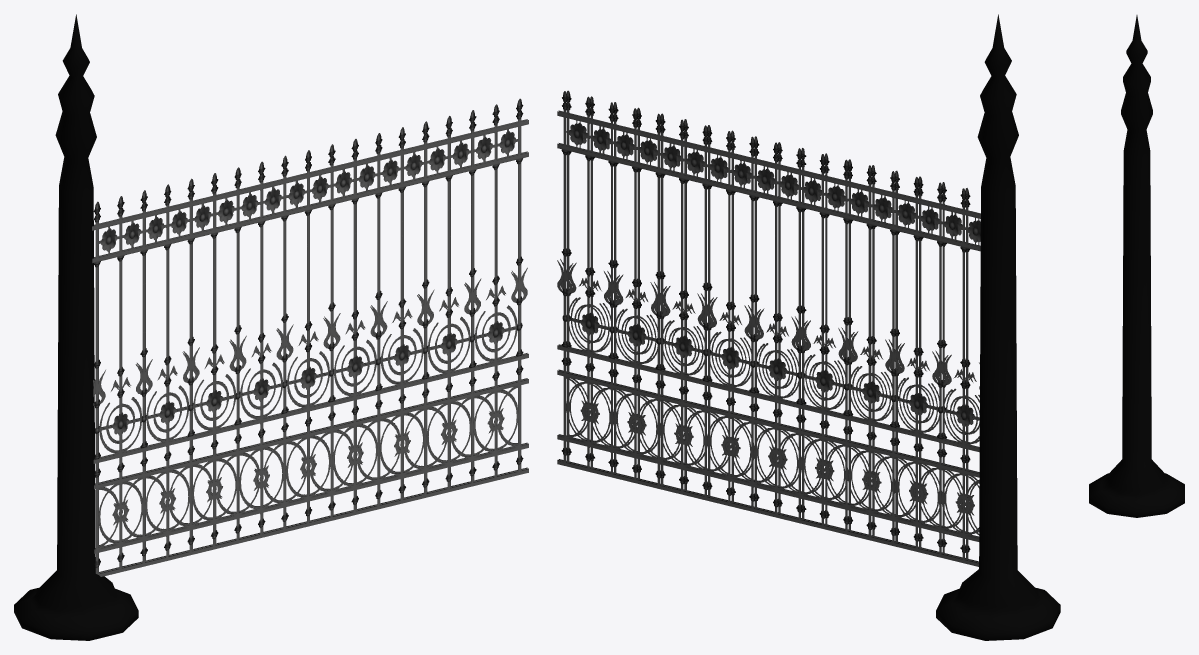
Rendered from GateFBX.FBX.
3 renders of one model, left to right at view 1: azimuth 30°, elevation 25°; view 2: azimuth 150°, elevation 25°; view 3: azimuth 270°, elevation 25°, orthographic. The views are drawn at different scales.
Visible parts, largest first — view 1: Plane003, Cylinder001, Plane004; view 2: Plane004, Plane003, Cylinder001; view 3: Cylinder001.
Boxes of the visible parts, box(x1,y1,x2,y2) form: Plane003: box(92, 100, 528, 576); Cylinder001: box(14, 14, 138, 640); Plane004: box(94, 98, 527, 573); Plane004: box(557, 91, 980, 566); Plane003: box(558, 90, 980, 562); Cylinder001: box(936, 14, 1060, 640); Cylinder001: box(1089, 15, 1184, 517).
Bounding box in the file's own units: 292 × 335 × 60.12.
Materials: 2 (1 with a texture image).
